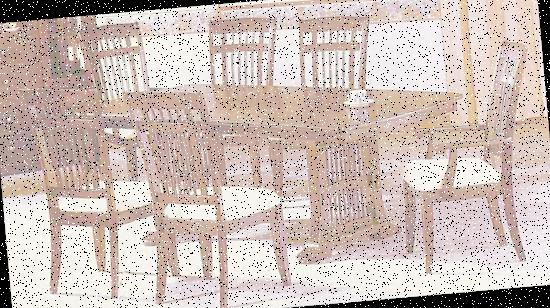Mesa: (44, 55, 480, 283)
Silla: (116, 74, 297, 307), (386, 27, 549, 277), (17, 72, 185, 305), (251, 8, 392, 246), (75, 16, 203, 227), (185, 14, 297, 211)
